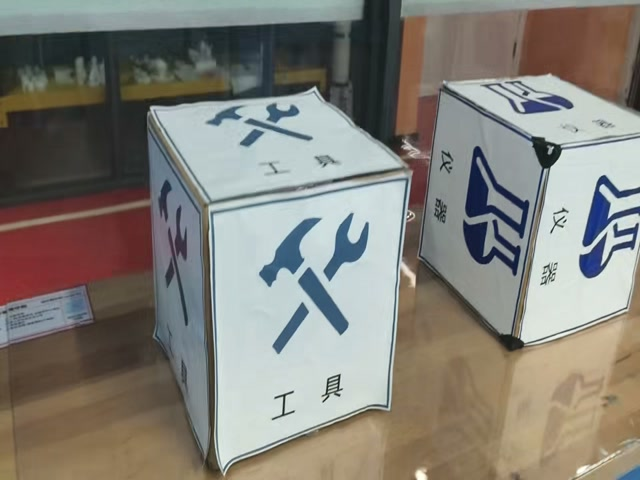Cube_ins: (438, 74, 640, 148)
Cube_tool: (149, 90, 409, 205)
